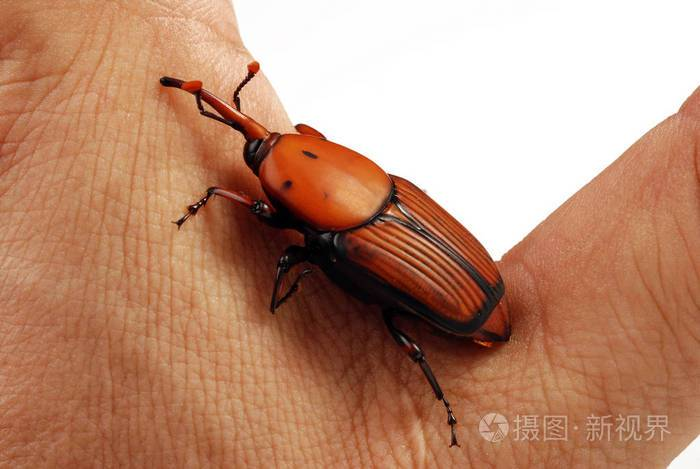Curculionidae: (158, 60, 511, 449)
